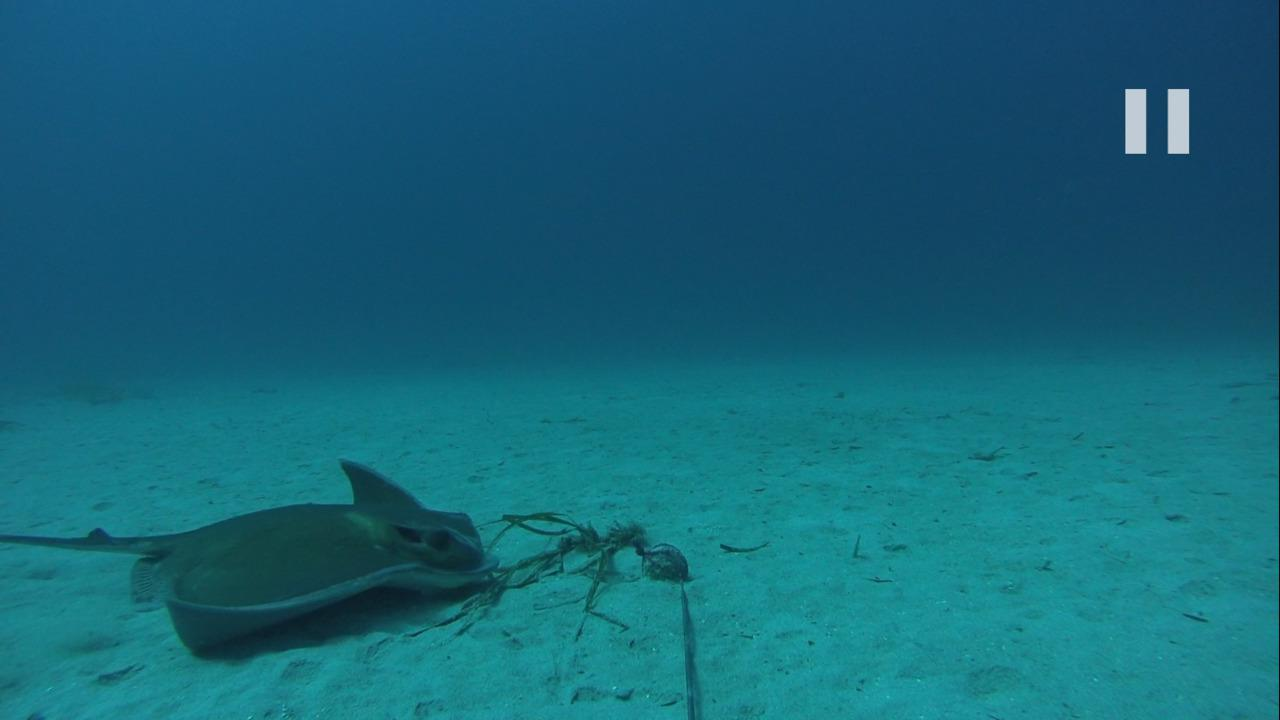myliobatis: (6, 455, 499, 651)
